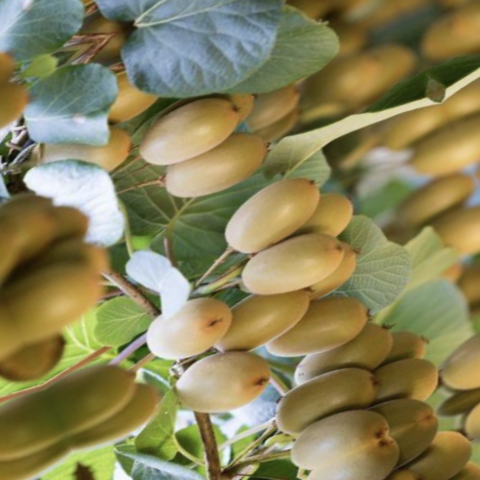kiwi: (187, 161, 346, 279), (253, 342, 410, 461), (143, 113, 283, 223), (219, 211, 350, 316), (122, 80, 259, 180), (162, 330, 291, 436), (420, 308, 480, 409)
